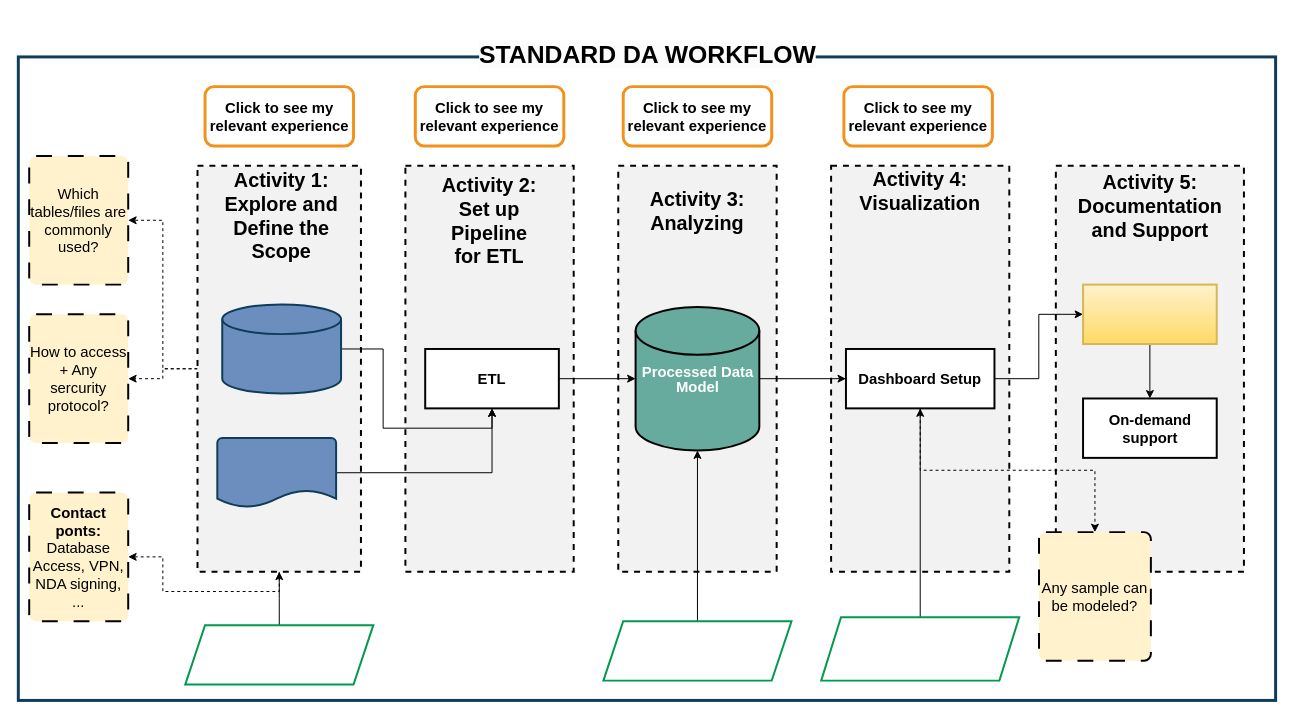
Some shapes in this 1294 by 719 pixel diagram are drawn without their labels. The centre of each missing label's shape, as x and y in pixels:
Caching/Log/Explore: (279,654)
Color scheme, style, slicers, features visulaization needed: (920,648)
Database: (281,348)
Documentation: (1149,314)
Files: (276,472)
Hypothesis/Questions: (697,650)
